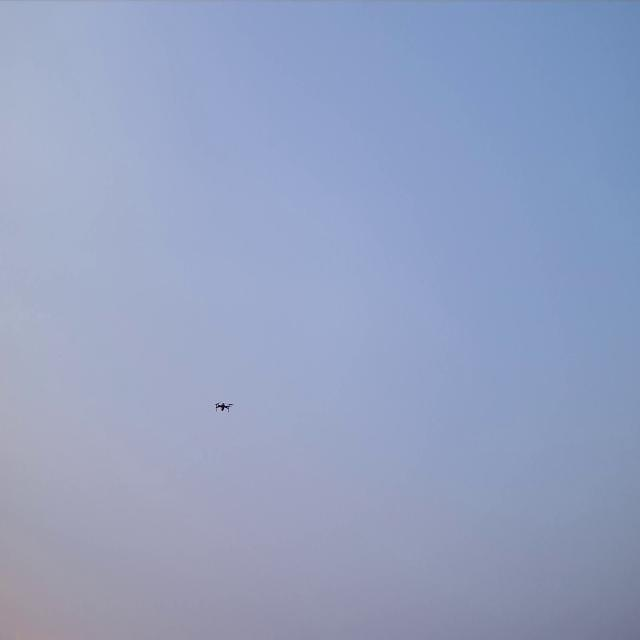UAV: (214, 400, 234, 412)
